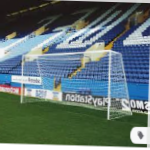goals: (20, 48, 134, 120)
